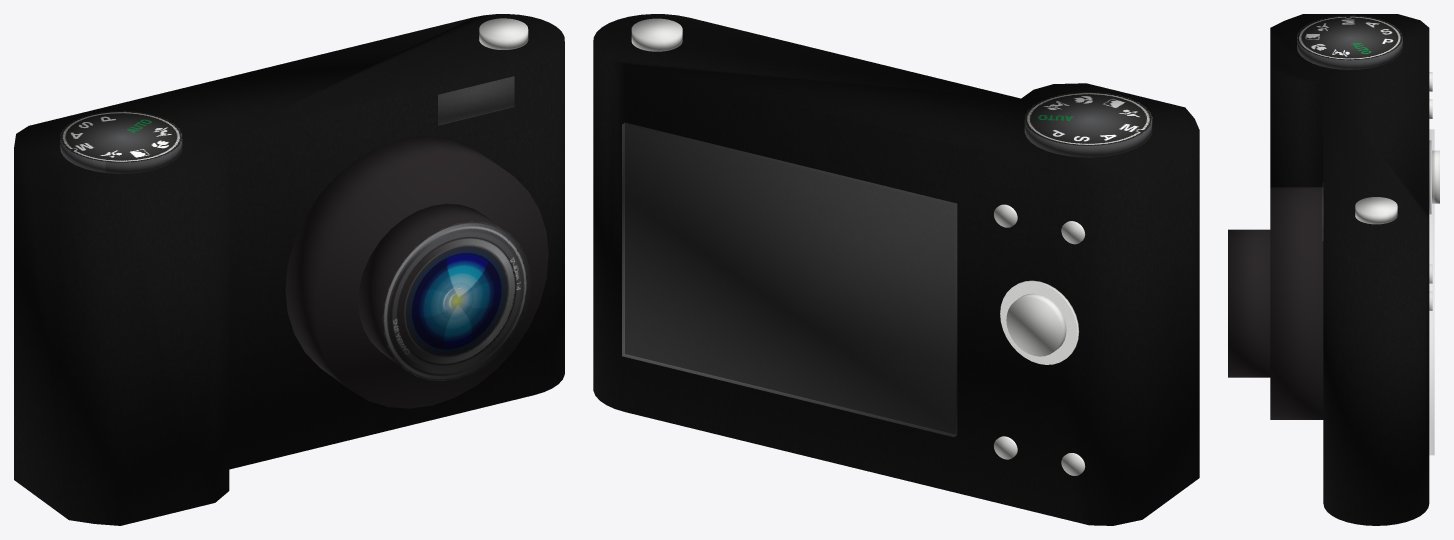
Rendered from camera.fbx.
3 views of the same model, side by side, from view 1: azimuth 30°, elevation 25°; view 2: azimuth 150°, elevation 25°; view 3: azimuth 270°, elevation 25° (orthographic). The views are drawn at different scales.
Visible parts, largest first — view 1: camera_frame, camera_lens, camera_dial, camera_flash, camera_large_button; view 2: camera_frame, camera_lcd, camera_dial, camera_shutter, camera_small_buttons, camera_large_button; view 3: camera_frame, camera_lens, camera_dial, camera_lcd, camera_large_button, camera_shutter, camera_small_buttons.
Part boxes in pixels (x1,y1,x2,y2): camera_frame: [14, 14, 564, 525]; camera_lens: [285, 136, 548, 408]; camera_dial: [60, 111, 182, 173]; camera_flash: [438, 77, 513, 124]; camera_large_button: [479, 18, 528, 49]; camera_frame: [593, 14, 1199, 525]; camera_lcd: [622, 123, 956, 436]; camera_dial: [1024, 92, 1152, 157]; camera_shutter: [1000, 280, 1079, 364]; camera_small_buttons: [994, 204, 1085, 475]; camera_large_button: [631, 18, 682, 51]; camera_frame: [1270, 14, 1429, 525]; camera_lens: [1228, 187, 1323, 419]; camera_dial: [1297, 15, 1402, 69]; camera_lcd: [1429, 129, 1434, 454]; camera_large_button: [1355, 197, 1397, 224]; camera_shutter: [1429, 140, 1439, 214]; camera_small_buttons: [1429, 72, 1432, 310].
Size of the model in its own units: 32.81 by 20.34 by 13.12.
5 materials, 4 textured.
